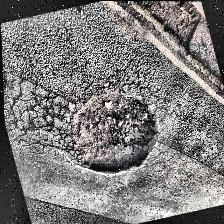pothole: (66, 86, 168, 182)
